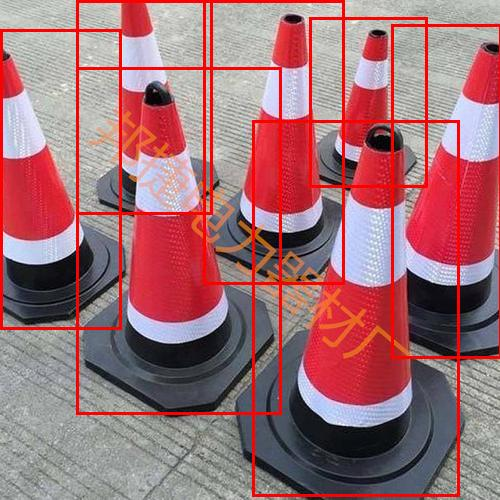traffic_cone: (254, 121, 468, 497), (108, 83, 260, 403), (208, 5, 361, 285), (1, 41, 126, 330), (402, 31, 500, 363), (85, 1, 218, 212), (317, 15, 438, 201)
